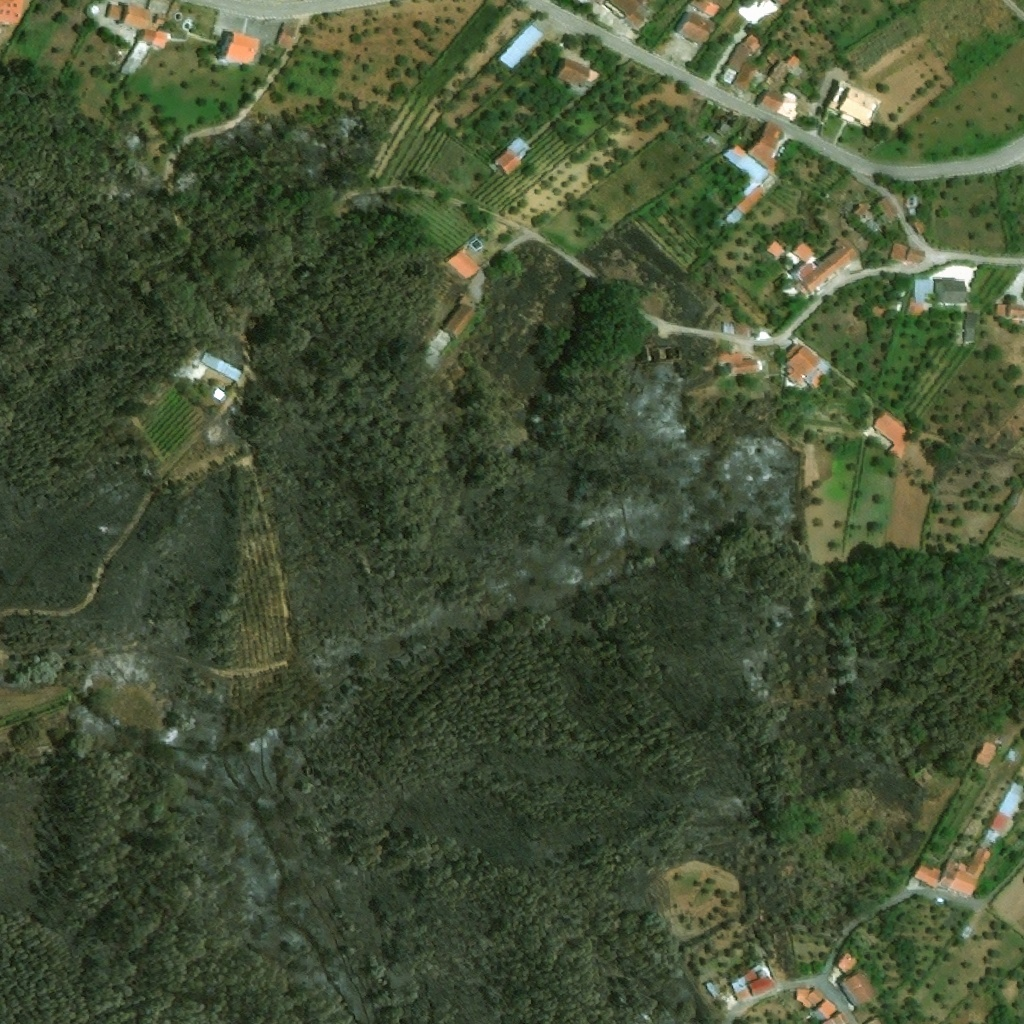0 no-damage: (793, 237, 859, 296), (825, 78, 882, 128), (937, 847, 991, 897), (781, 341, 830, 391), (908, 277, 971, 314), (718, 34, 762, 85), (497, 22, 543, 70), (747, 121, 786, 173), (554, 57, 600, 95), (441, 295, 480, 339), (871, 410, 911, 452), (216, 30, 257, 68), (603, 0, 651, 31), (766, 46, 804, 85), (756, 89, 800, 122), (202, 350, 244, 382), (840, 971, 875, 1007), (676, 12, 715, 44), (117, 43, 150, 78), (104, 4, 150, 28), (450, 247, 481, 278), (730, 967, 758, 1001), (176, 357, 209, 385), (719, 353, 762, 374), (905, 197, 927, 236), (998, 782, 1023, 816), (735, 186, 764, 215), (854, 203, 882, 233), (133, 29, 173, 48), (683, 0, 722, 19), (749, 968, 775, 996), (493, 152, 522, 177), (732, 63, 757, 91), (890, 243, 925, 263), (974, 740, 999, 767), (912, 864, 941, 887), (835, 950, 860, 975), (877, 195, 900, 222), (0, 0, 25, 24), (796, 987, 823, 1009), (813, 998, 838, 1021), (996, 304, 1023, 325), (964, 311, 980, 343), (722, 144, 745, 165), (988, 811, 1009, 834), (275, 25, 295, 49), (793, 242, 815, 262), (979, 829, 998, 850), (725, 208, 744, 226), (759, 175, 776, 195), (822, 1010, 848, 1023), (767, 241, 785, 259), (702, 135, 720, 152), (706, 981, 720, 998), (737, 322, 751, 337), (717, 122, 731, 136), (871, 305, 885, 318), (753, 329, 770, 339), (1004, 748, 1017, 761), (723, 322, 734, 334), (154, 15, 165, 26)
3 destroyed: (647, 341, 666, 364)
4 un-classified: (763, 0, 790, 6)
